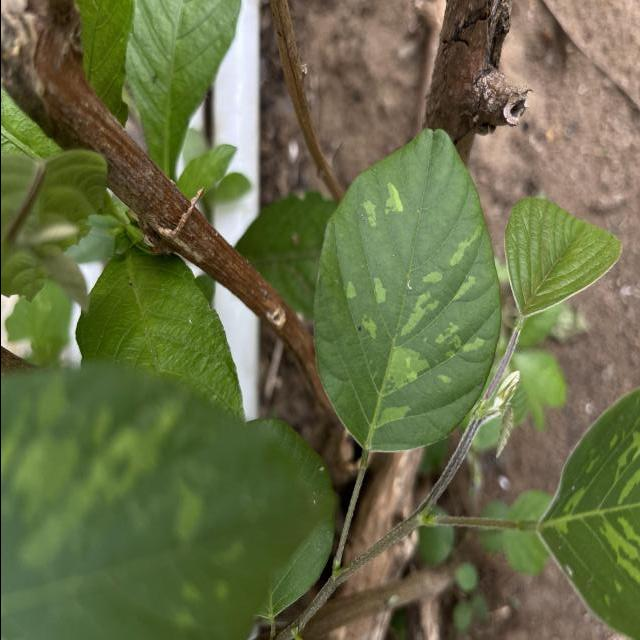Desmodium gangeticum: (310, 124, 502, 456)
